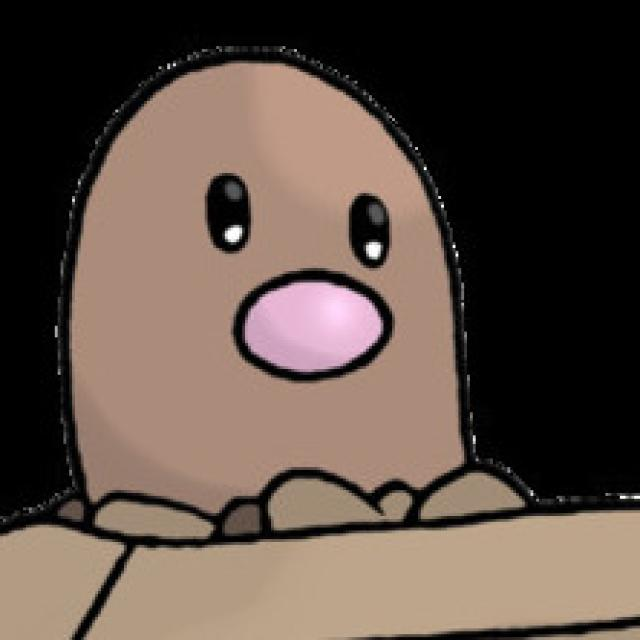Diglett: (65, 43, 480, 529)
